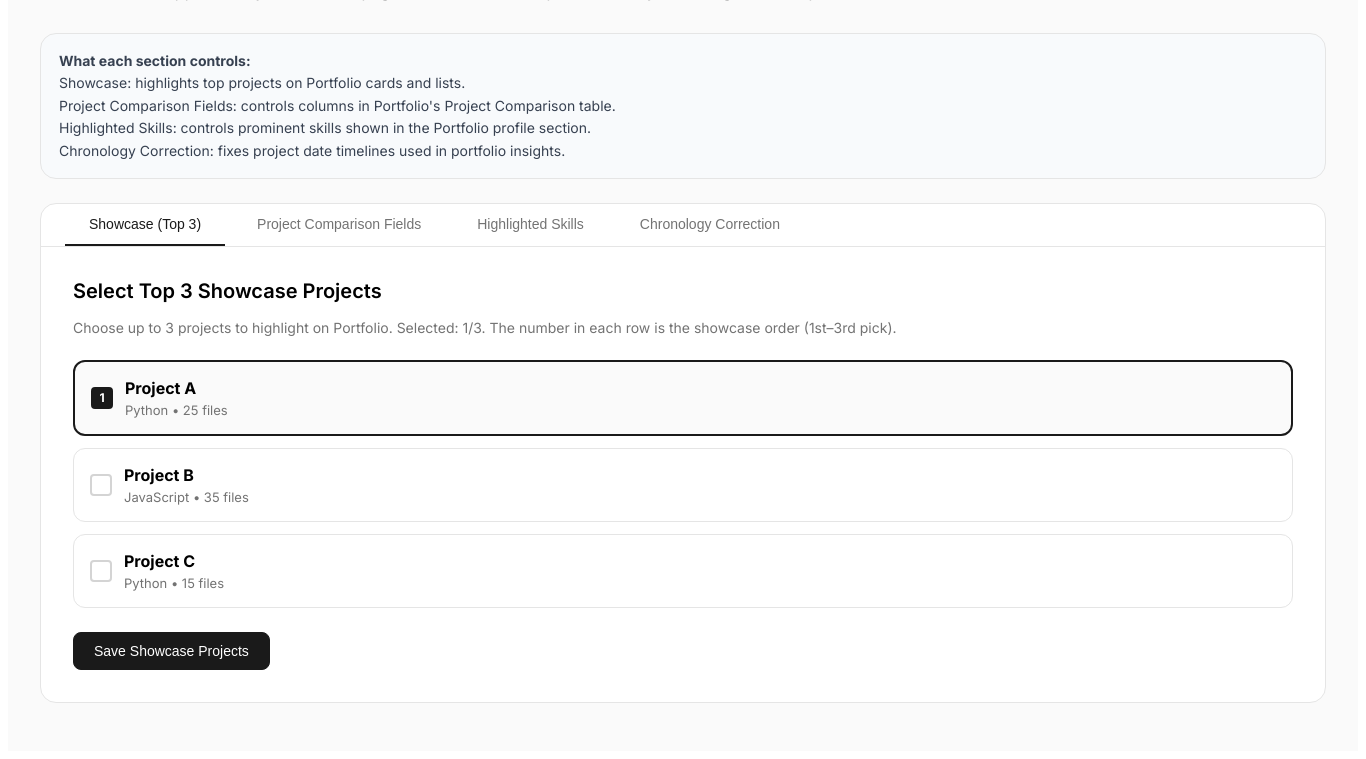
Test case: CuratePage › Showcase Tab › shows error message when save fails
(page scrolled)
Step 1. Click the button "Save Showcase Projects" → (171, 651), box [73,632,270,670]
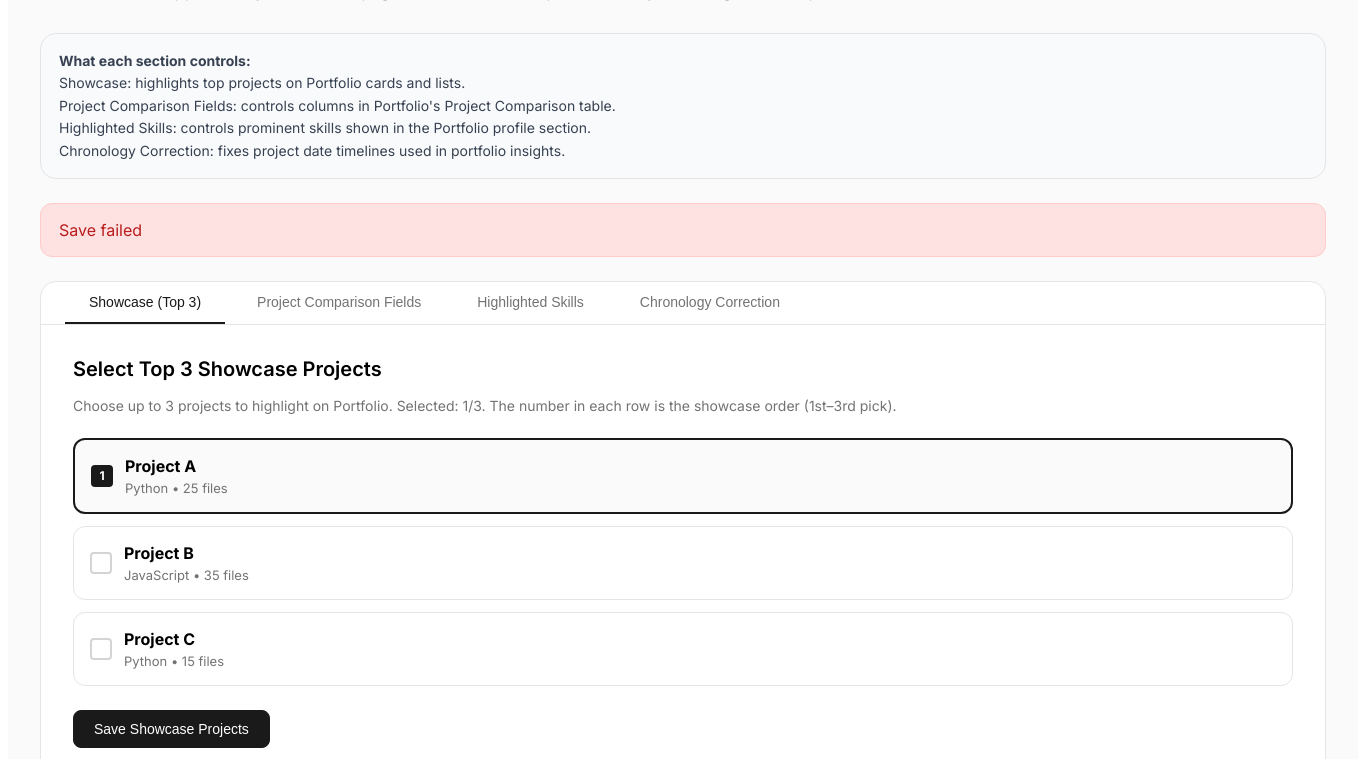
Check: the text "Save failed" is shown, box [40,203,1326,257]
